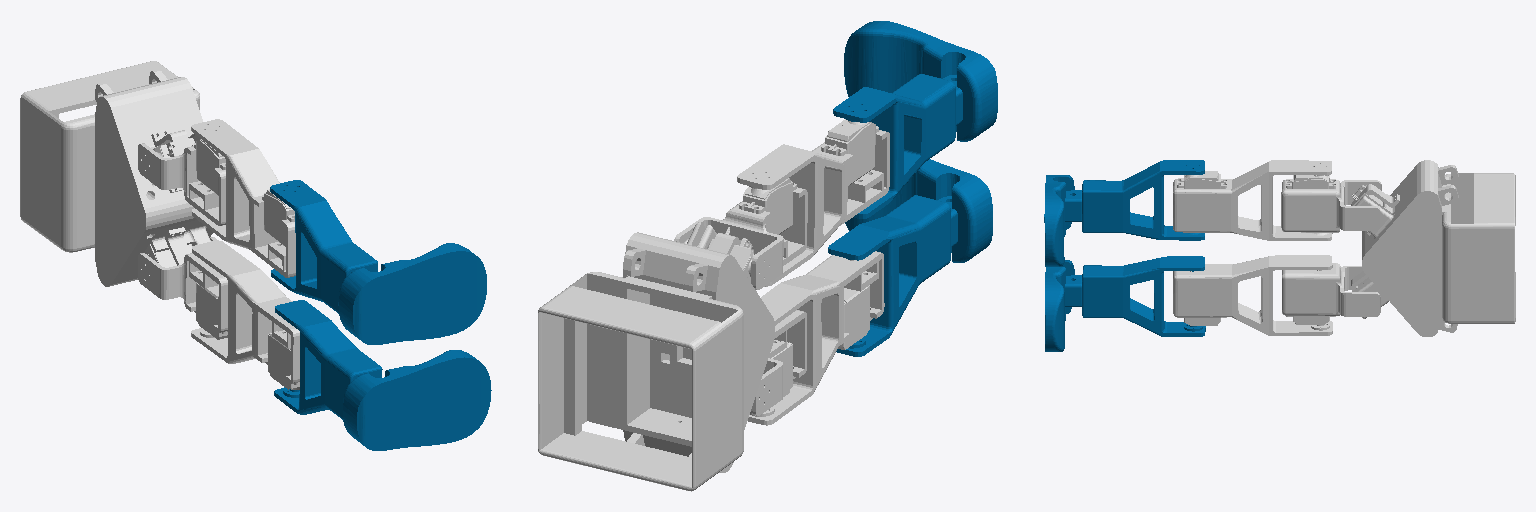
The robot description file, URDF, robot "Muneco_Bipedo_URDF_V3":
<?xml version="1.0" encoding="utf-8"?>
<!-- This URDF was automatically created by SolidWorks to URDF Exporter! Originally created by Stephen Brawner (brawner@gmail.com) 
     Commit Version: 1.6.0-4-g7f85cfe  Build Version: 1.6.7995.38578
     For more information, please see http://wiki.ros.org/sw_urdf_exporter -->
<robot
  name="Muneco_Bipedo_URDF_V3">
  <link
    name="Base_link">
    <inertial>
      <origin
        xyz="-0.00011668 0.0049504 6.701E-06"
        rpy="0 0 0" />
      <mass
        value="0.91157" />
      <inertia
        ixx="0.0022258"
        ixy="1.6323E-05"
        ixz="-2.2497E-07"
        iyy="0.0026058"
        iyz="-1.1143E-07"
        izz="0.0015161" />
    </inertial>
    <visual>
      <origin
        xyz="0 0 0"
        rpy="0 0 0" />
      <geometry>
        <mesh
          filename="package://robot_description/meshes/meshes_bipedo/Base_link.STL" />
      </geometry>
      <material
        name="">
        <color
          rgba="0.89412 0.89412 0.89412 1" />
      </material>
    </visual>
    <collision>
      <origin
        xyz="0 0 0"
        rpy="0 0 0" />
      <geometry>
        <mesh
          filename="package://robot_description/meshes/meshes_bipedo/Base_link.STL" />
      </geometry>
    </collision>
  </link>
  <link
    name="Right_Hip_Roll_Link">
    <inertial>
      <origin
        xyz="-0.040727 0.030816 -0.029488"
        rpy="0 0 0" />
      <mass
        value="0.073278" />
      <inertia
        ixx="4.6016E-05"
        ixy="1.8705E-05"
        ixz="-1.3912E-06"
        iyy="4.8453E-05"
        iyz="1.7144E-07"
        izz="5.8163E-05" />
    </inertial>
    <visual>
      <origin
        xyz="0 0 0"
        rpy="0 0 0" />
      <geometry>
        <mesh
          filename="package://robot_description/meshes/meshes_bipedo/Right_Hip_Roll_Link.STL" />
      </geometry>
      <material
        name="">
        <color
          rgba="0.89412 0.89412 0.89412 1" />
      </material>
    </visual>
    <collision>
      <origin
        xyz="0 0 0"
        rpy="0 0 0" />
      <geometry>
        <mesh
          filename="package://robot_description/meshes/meshes_bipedo/Right_Hip_Roll_Link.STL" />
      </geometry>
    </collision>
  </link>
  <joint
    name="Right_Hip_Roll_Joint"
    type="revolute">
    <origin
      xyz="-0.028104 -0.048648 0.051489"
      rpy="-1.5846 0.67051 1.5485" />
    <parent
      link="Base_link" />
    <child
      link="Right_Hip_Roll_Link" />
    <axis
      xyz="0 0 1" />
    <limit
      lower="-0.34907"
      upper="1.5708"
      effort="100"
      velocity="100" />
  </joint>
  <link
    name="Right_Hip_Pitch_Link">
    <inertial>
      <origin
        xyz="-0.088223 -0.0016045 -0.035868"
        rpy="0 0 0" />
      <mass
        value="0.12596" />
      <inertia
        ixx="7.7077E-05"
        ixy="-8.7584E-06"
        ixz="-1.5455E-05"
        iyy="0.00025837"
        iyz="-5.3072E-08"
        izz="0.00020189" />
    </inertial>
    <visual>
      <origin
        xyz="0 0 0"
        rpy="0 0 0" />
      <geometry>
        <mesh
          filename="package://robot_description/meshes/meshes_bipedo/Right_Hip_Pitch_Link.STL" />
      </geometry>
      <material
        name="">
        <color
          rgba="0.89412 0.89412 0.89412 1" />
      </material>
    </visual>
    <collision>
      <origin
        xyz="0 0 0"
        rpy="0 0 0" />
      <geometry>
        <mesh
          filename="package://robot_description/meshes/meshes_bipedo/Right_Hip_Pitch_Link.STL" />
      </geometry>
    </collision>
  </link>
  <joint
    name="Right_Hip_Pitch_Joint"
    type="revolute">
    <origin
      xyz="-0.066091 0.0033213 -0.027572"
      rpy="1.5776 0.0054396 -0.67299" />
    <parent
      link="Right_Hip_Roll_Link" />
    <child
      link="Right_Hip_Pitch_Link" />
    <axis
      xyz="0 0 1" />
    <limit
      lower="-1.5708"
      upper="1.5708"
      effort="100"
      velocity="100" />
  </joint>
  <link
    name="Right_Knee_Link">
    <inertial>
      <origin
        xyz="-0.11278 -0.019224 -0.039013"
        rpy="0 0 0" />
      <mass
        value="0.31126" />
      <inertia
        ixx="0.00035021"
        ixy="-1.6335E-05"
        ixz="-1.1034E-05"
        iyy="0.00033518"
        iyz="-9.5929E-08"
        izz="0.00043411" />
    </inertial>
    <visual>
      <origin
        xyz="0 0 0"
        rpy="0 0 0" />
      <geometry>
        <mesh
          filename="package://robot_description/meshes/meshes_bipedo/Right_Knee_Link.STL" />
      </geometry>
      <material
        name="">
        <color
          rgba="0.039216 0.4902 0.7098 1" />
      </material>
    </visual>
    <collision>
      <origin
        xyz="0 0 0"
        rpy="0 0 0" />
      <geometry>
        <mesh
          filename="package://robot_description/meshes/meshes_bipedo/Right_Knee_Link.STL" />
      </geometry>
    </collision>
  </link>
  <joint
    name="Right_Knee_Joint"
    type="revolute">
    <origin
      xyz="-0.13855 -0.00026394 0"
      rpy="0.003996 0 -0.0053125" />
    <parent
      link="Right_Hip_Pitch_Link" />
    <child
      link="Right_Knee_Link" />
    <axis
      xyz="0 0 -1" />
    <limit
      lower="-1.5708"
      upper="1.5708"
      effort="100"
      velocity="100" />
  </joint>
  <link
    name="Left_Hip_Roll_Link">
    <inertial>
      <origin
        xyz="-0.00011668 0.0049504 6.701E-06"
        rpy="0 0 0" />
      <mass
        value="0.91157" />
      <inertia
        ixx="0.0022258"
        ixy="1.6323E-05"
        ixz="-2.2497E-07"
        iyy="0.0026058"
        iyz="-1.1143E-07"
        izz="0.0015161" />
    </inertial>
    <visual>
      <origin
        xyz="0 0 0"
        rpy="0 0 0" />
      <geometry>
        <mesh
          filename="package://robot_description/meshes/meshes_bipedo/Left_Hip_Roll_Link.STL" />
      </geometry>
      <material
        name="">
        <color
          rgba="0.89412 0.89412 0.89412 1" />
      </material>
    </visual>
    <collision>
      <origin
        xyz="0 0 0"
        rpy="0 0 0" />
      <geometry>
        <mesh
          filename="package://robot_description/meshes/meshes_bipedo/Left_Hip_Roll_Link.STL" />
      </geometry>
    </collision>
  </link>
  <joint
    name="Left_Hip_Roll_Joint"
    type="revolute">
    <origin
      xyz="-0.028104 -0.048444 -0.051311"
      rpy="-1.557 -0.67051 1.5485" />
    <parent
      link="Base_link" />
    <child
      link="Left_Hip_Roll_Link" />
    <axis
      xyz="0 0 -1" />
    <limit
      lower="-0.34907"
      upper="1.5708"
      effort="100"
      velocity="100" />
  </joint>
  <link
    name="Left_Hip_Pitch_Link">
    <inertial>
      <origin
        xyz="-0.088136 0.0042328 -0.035868"
        rpy="0 0 0" />
      <mass
        value="0.12596" />
      <inertia
        ixx="7.7759E-05"
        ixy="1.4143E-05"
        ixz="-1.5447E-05"
        iyy="0.00025769"
        iyz="5.1347E-07"
        izz="0.00020189" />
    </inertial>
    <visual>
      <origin
        xyz="0 0 0"
        rpy="0 0 0" />
      <geometry>
        <mesh
          filename="package://robot_description/meshes/meshes_bipedo/Left_Hip_Pitch_Link.STL" />
      </geometry>
      <material
        name="">
        <color
          rgba="0.89412 0.89412 0.89412 1" />
      </material>
    </visual>
    <collision>
      <origin
        xyz="0 0 0"
        rpy="0 0 0" />
      <geometry>
        <mesh
          filename="package://robot_description/meshes/meshes_bipedo/Left_Hip_Pitch_Link.STL" />
      </geometry>
    </collision>
  </link>
  <joint
    name="Left_Hip_Pitch_Joint"
    type="revolute">
    <origin
      xyz="-0.066105 -0.002994 -0.027575"
      rpy="-1.5776 0.0054058 0.66804" />
    <parent
      link="Left_Hip_Roll_Link" />
    <child
      link="Left_Hip_Pitch_Link" />
    <axis
      xyz="0 0 -1" />
    <limit
      lower="-1.5708"
      upper="1.5708"
      effort="100"
      velocity="100" />
  </joint>
  <link
    name="Left_Knee_Link">
    <inertial>
      <origin
        xyz="-0.1133 0.015702 -0.038984"
        rpy="0 0 0" />
      <mass
        value="0.31126" />
      <inertia
        ixx="0.00034922"
        ixy="1.6708E-05"
        ixz="-1.1066E-05"
        iyy="0.00033616"
        iyz="1.9645E-08"
        izz="0.0004341" />
    </inertial>
    <visual>
      <origin
        xyz="0 0 0"
        rpy="0 0 0" />
      <geometry>
        <mesh
          filename="package://robot_description/meshes/meshes_bipedo/Left_Knee_Link.STL" />
      </geometry>
      <material
        name="">
        <color
          rgba="0.039216 0.4902 0.7098 1" />
      </material>
    </visual>
    <collision>
      <origin
        xyz="0 0 0"
        rpy="0 0 0" />
      <geometry>
        <mesh
          filename="package://robot_description/meshes/meshes_bipedo/Left_Knee_Link.STL" />
      </geometry>
    </collision>
  </link>
  <joint
    name="Left_Knee_Joint"
    type="revolute">
    <origin
      xyz="-0.13848 0.0043924 0"
      rpy="0 0 -0.02449" />
    <parent
      link="Left_Hip_Pitch_Link" />
    <child
      link="Left_Knee_Link" />
    <axis
      xyz="0 0 1" />
    <limit
      lower="-1.5708"
      upper="1.5708"
      effort="100"
      velocity="100" />
  </joint>
</robot>

--- Facts derived from the render (not from the file) ---
The picture shows the robot from 3 angles, left to right: view 1: azimuth 30°, elevation 25°; view 2: azimuth 150°, elevation 25°; view 3: azimuth 270°, elevation 25°; orthographic projection.
Model Muneco_Bipedo_URDF_V3 with 7 links and 6 joints (6 revolute), rooted at Base_link, posed every joint at zero.
Visible links, largest first — view 1: Base_link, Right_Knee_Link, Left_Knee_Link, Left_Hip_Pitch_Link, Right_Hip_Pitch_Link, Right_Hip_Roll_Link, Left_Hip_Roll_Link; view 2: Base_link, Right_Knee_Link, Left_Knee_Link, Right_Hip_Pitch_Link, Left_Hip_Pitch_Link, Right_Hip_Roll_Link, Left_Hip_Roll_Link; view 3: Base_link, Left_Knee_Link, Right_Knee_Link, Left_Hip_Pitch_Link, Right_Hip_Pitch_Link, Right_Hip_Roll_Link, Left_Hip_Roll_Link.
Boxes of the visible links, box(x1,y1,x2,y2) form: Base_link: box(20, 61, 212, 286); Right_Knee_Link: box(270, 180, 486, 344); Left_Knee_Link: box(274, 300, 491, 450); Left_Hip_Pitch_Link: box(191, 240, 299, 389); Right_Hip_Pitch_Link: box(191, 119, 295, 277); Right_Hip_Roll_Link: box(138, 139, 225, 225); Left_Hip_Roll_Link: box(138, 237, 227, 339); Base_link: box(538, 222, 774, 491); Right_Knee_Link: box(833, 21, 997, 218); Left_Knee_Link: box(828, 159, 992, 356); Right_Hip_Pitch_Link: box(737, 119, 889, 286); Left_Hip_Pitch_Link: box(748, 251, 884, 425); Right_Hip_Roll_Link: box(674, 178, 807, 289); Left_Hip_Roll_Link: box(751, 310, 806, 415); Base_link: box(1351, 160, 1515, 336); Left_Knee_Link: box(1045, 256, 1205, 351); Right_Knee_Link: box(1044, 160, 1204, 266); Left_Hip_Pitch_Link: box(1173, 255, 1332, 335); Right_Hip_Pitch_Link: box(1173, 160, 1332, 240); Right_Hip_Roll_Link: box(1281, 175, 1381, 232); Left_Hip_Roll_Link: box(1282, 263, 1380, 324).
Size in the robot's own frame: 0.1676 by 0.5133 by 0.1972 metres.
7 mesh visuals loaded from 7 distinct referenced files (7 binary STL).
